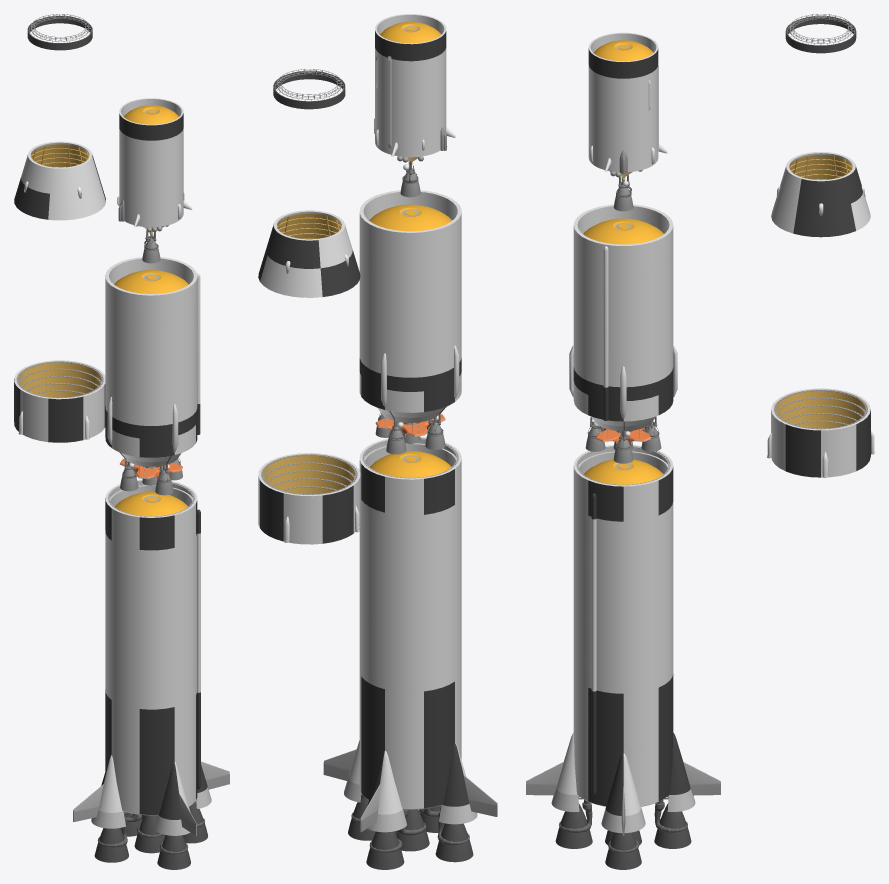
The model's file is apollo__saturn_v_launch_vehicle.web.glb.
3 renders of one model, left to right at view 1: azimuth 30°, elevation 25°; view 2: azimuth 150°, elevation 25°; view 3: azimuth 270°, elevation 25°, orthographic. The views are drawn at different scales.
Visible parts, largest first — view 1: S-IC, S-II, S-IVB, Interstage, S-II_Top, Instrument_Unit, F1.004, F1.003, F1, F1.001, J2.005; view 2: S-IC, S-II, S-IVB, Interstage, S-II_Top, Instrument_Unit, F1.004, F1.002, F1, F1.001, J2.003, J2.002 (+1 smaller); view 3: S-IC, S-II, S-IVB, Interstage, S-II_Top, Instrument_Unit, F1.003, F1.002, F1.001.
Boxes of the visible parts, bbox=[...] form: S-IC: bbox=[73, 479, 229, 835]; S-II: bbox=[105, 257, 200, 480]; S-IVB: bbox=[117, 98, 192, 234]; Interstage: bbox=[14, 360, 105, 442]; S-II_Top: bbox=[14, 141, 105, 220]; Instrument_Unit: bbox=[27, 14, 92, 50]; F1.004: bbox=[94, 811, 128, 862]; F1.003: bbox=[157, 835, 190, 869]; F1: bbox=[134, 815, 165, 853]; F1.001: bbox=[183, 801, 207, 843]; J2.005: bbox=[142, 230, 160, 263]; S-IC: bbox=[323, 437, 497, 832]; S-II: bbox=[359, 190, 461, 437]; S-IVB: bbox=[374, 14, 456, 164]; Interstage: bbox=[258, 453, 360, 544]; S-II_Top: bbox=[258, 210, 360, 297]; Instrument_Unit: bbox=[273, 69, 345, 109]; F1.004: bbox=[435, 805, 473, 862]; F1.002: bbox=[366, 831, 404, 869]; F1: bbox=[396, 809, 429, 851]; F1.001: bbox=[348, 794, 375, 840]; J2.003: bbox=[425, 415, 445, 449]; J2.002: bbox=[386, 420, 406, 454]; S-IC: bbox=[526, 445, 720, 835]; S-II: bbox=[569, 204, 677, 444]; S-IVB: bbox=[588, 32, 667, 179]; Interstage: bbox=[767, 388, 874, 478]; S-II_Top: bbox=[771, 152, 870, 237]; Instrument_Unit: bbox=[785, 14, 856, 53]; F1.003: bbox=[555, 796, 592, 848]; F1.002: bbox=[654, 796, 691, 848]; F1.001: bbox=[605, 832, 641, 869].
Bounding box in the file's own units: 19.75 × 90.99 × 35.34.
Materials: 4 (4 with a texture image).
